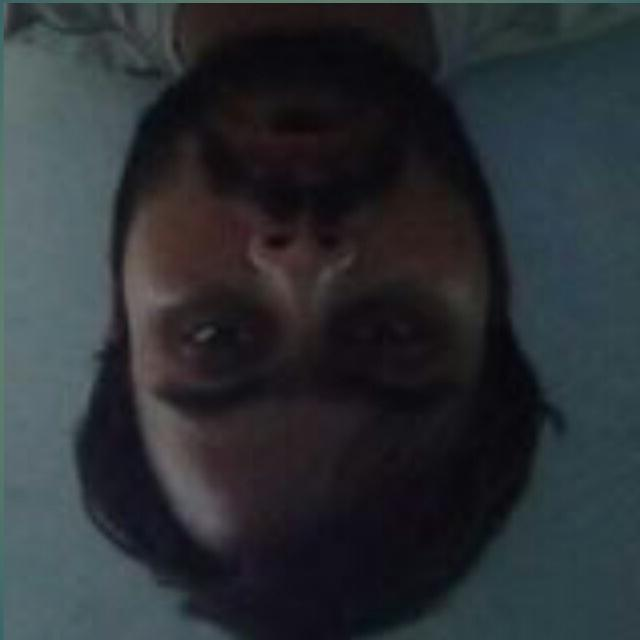Natural: (82, 95, 558, 563)
